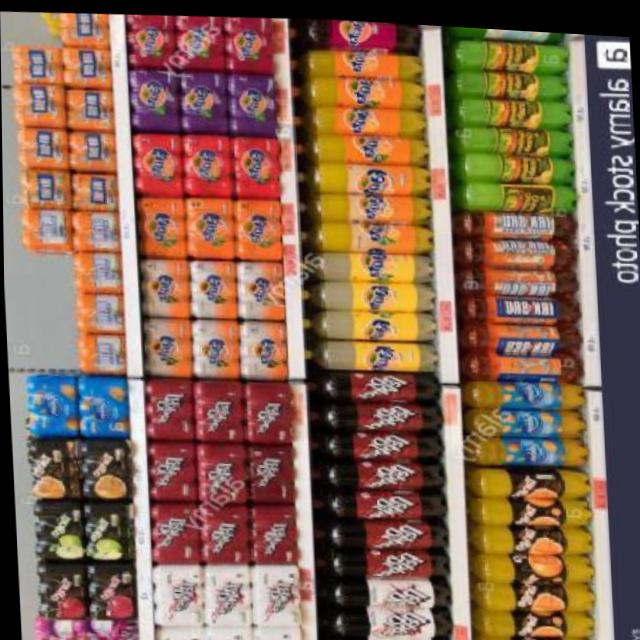Drinks: (311, 566, 451, 611), (313, 596, 452, 638), (305, 420, 443, 462), (308, 509, 448, 550), (307, 479, 446, 520), (303, 361, 440, 402), (308, 450, 445, 491), (296, 212, 432, 253), (300, 300, 436, 341), (310, 538, 449, 578), (294, 154, 429, 195), (298, 243, 433, 284), (304, 392, 441, 432), (292, 125, 428, 165), (291, 68, 426, 108), (292, 97, 427, 137), (295, 184, 430, 224), (299, 272, 434, 312), (302, 330, 437, 370), (289, 40, 423, 80), (288, 13, 421, 51), (130, 128, 183, 197), (126, 63, 178, 132), (138, 253, 191, 319), (148, 561, 201, 627), (145, 498, 197, 565), (229, 128, 280, 196), (133, 193, 186, 258), (180, 128, 231, 195), (141, 373, 192, 440), (144, 434, 195, 501), (194, 437, 245, 504), (193, 376, 244, 442), (199, 558, 250, 624), (178, 65, 228, 132), (184, 192, 234, 259), (225, 67, 275, 134), (197, 498, 247, 565), (231, 193, 281, 259), (241, 376, 291, 442), (250, 558, 299, 625), (245, 497, 294, 563), (233, 256, 284, 319), (188, 254, 236, 320), (190, 314, 238, 380), (141, 314, 191, 377), (244, 438, 293, 502), (238, 315, 286, 379), (223, 12, 274, 71), (122, 11, 174, 67), (173, 11, 225, 67), (312, 628, 451, 640), (247, 619, 298, 640), (202, 619, 251, 640), (150, 620, 200, 640)
